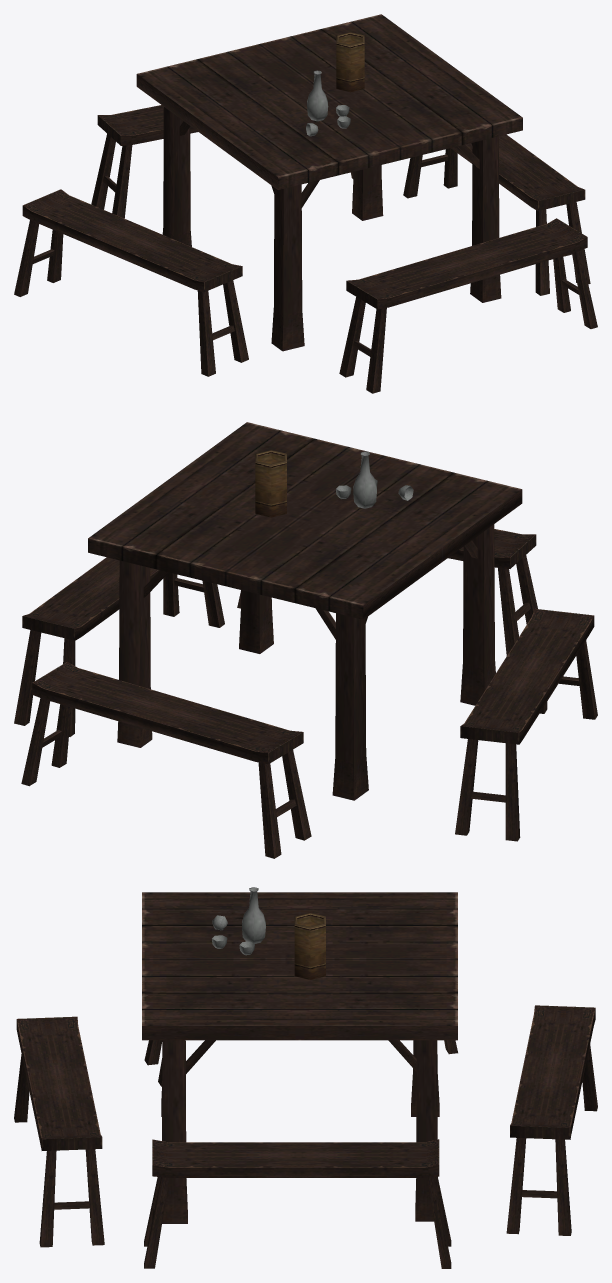
File: Tea Table.fbx
3 renders of one model, top to bottom at view 1: azimuth 30°, elevation 25°; view 2: azimuth 150°, elevation 25°; view 3: azimuth 270°, elevation 25°, orthographic. The views are drawn at different scales.
Parts seen in each view (by area): view 1: Table, Chair 2, Chair 1, Chair 3, Chair 4, Container, Tea Pot; view 2: Table, Chair 4, Chair 1, Chair 3, Chair 2, Container, Tea Pot; view 3: Table, Chair 3, Chair 2, Chair 4, Container, Tea Pot, Chair 1.
Boxes of the visible parts, x1,y1,x2,y2 form: Table: [136, 14, 522, 351]; Chair 2: [339, 218, 597, 393]; Chair 1: [14, 189, 248, 376]; Chair 3: [403, 134, 590, 295]; Chair 4: [91, 105, 353, 218]; Container: [336, 32, 364, 92]; Tea Pot: [307, 70, 328, 121]; Table: [88, 422, 522, 800]; Chair 4: [21, 662, 311, 858]; Chair 1: [455, 608, 597, 841]; Chair 3: [14, 557, 224, 736]; Chair 2: [237, 529, 537, 655]; Container: [255, 450, 286, 517]; Tea Pot: [353, 451, 376, 508]; Table: [142, 892, 457, 1223]; Chair 3: [144, 1139, 451, 1268]; Chair 2: [14, 1016, 104, 1247]; Chair 4: [506, 1005, 597, 1235]; Container: [294, 912, 325, 979]; Tea Pot: [242, 887, 265, 943]; Chair 1: [144, 1040, 457, 1086].
Bounding box in the file's own units: 238 × 118 × 243.
1 material, 1 textured.
